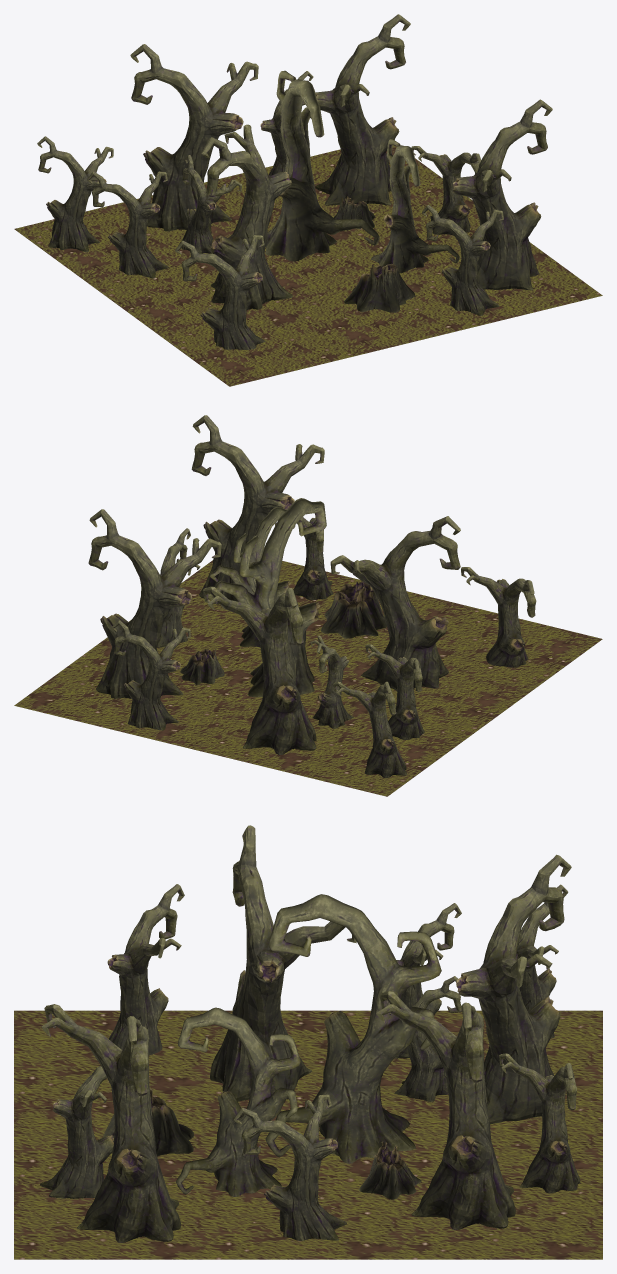
The model's file is Edge_Diorama_11 BIG THICC TREES.fbx.
The picture shows the model from 3 angles, top to bottom: view 1: azimuth 30°, elevation 25°; view 2: azimuth 150°, elevation 25°; view 3: azimuth 270°, elevation 25°; orthographic projection. The views are drawn at different scales.
Parts seen in each view (by area): view 1: Floor035; view 2: Floor035; view 3: Floor035.
Part boxes in pixels (x1,y1,x2,y2): Floor035: (14,14,602,386); Floor035: (14,415,602,796); Floor035: (14,825,602,1259).
Bounding box in the file's own units: 450 × 222 × 450.
